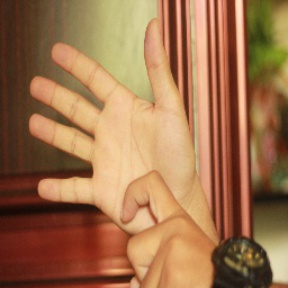R: (34, 18, 215, 288)
